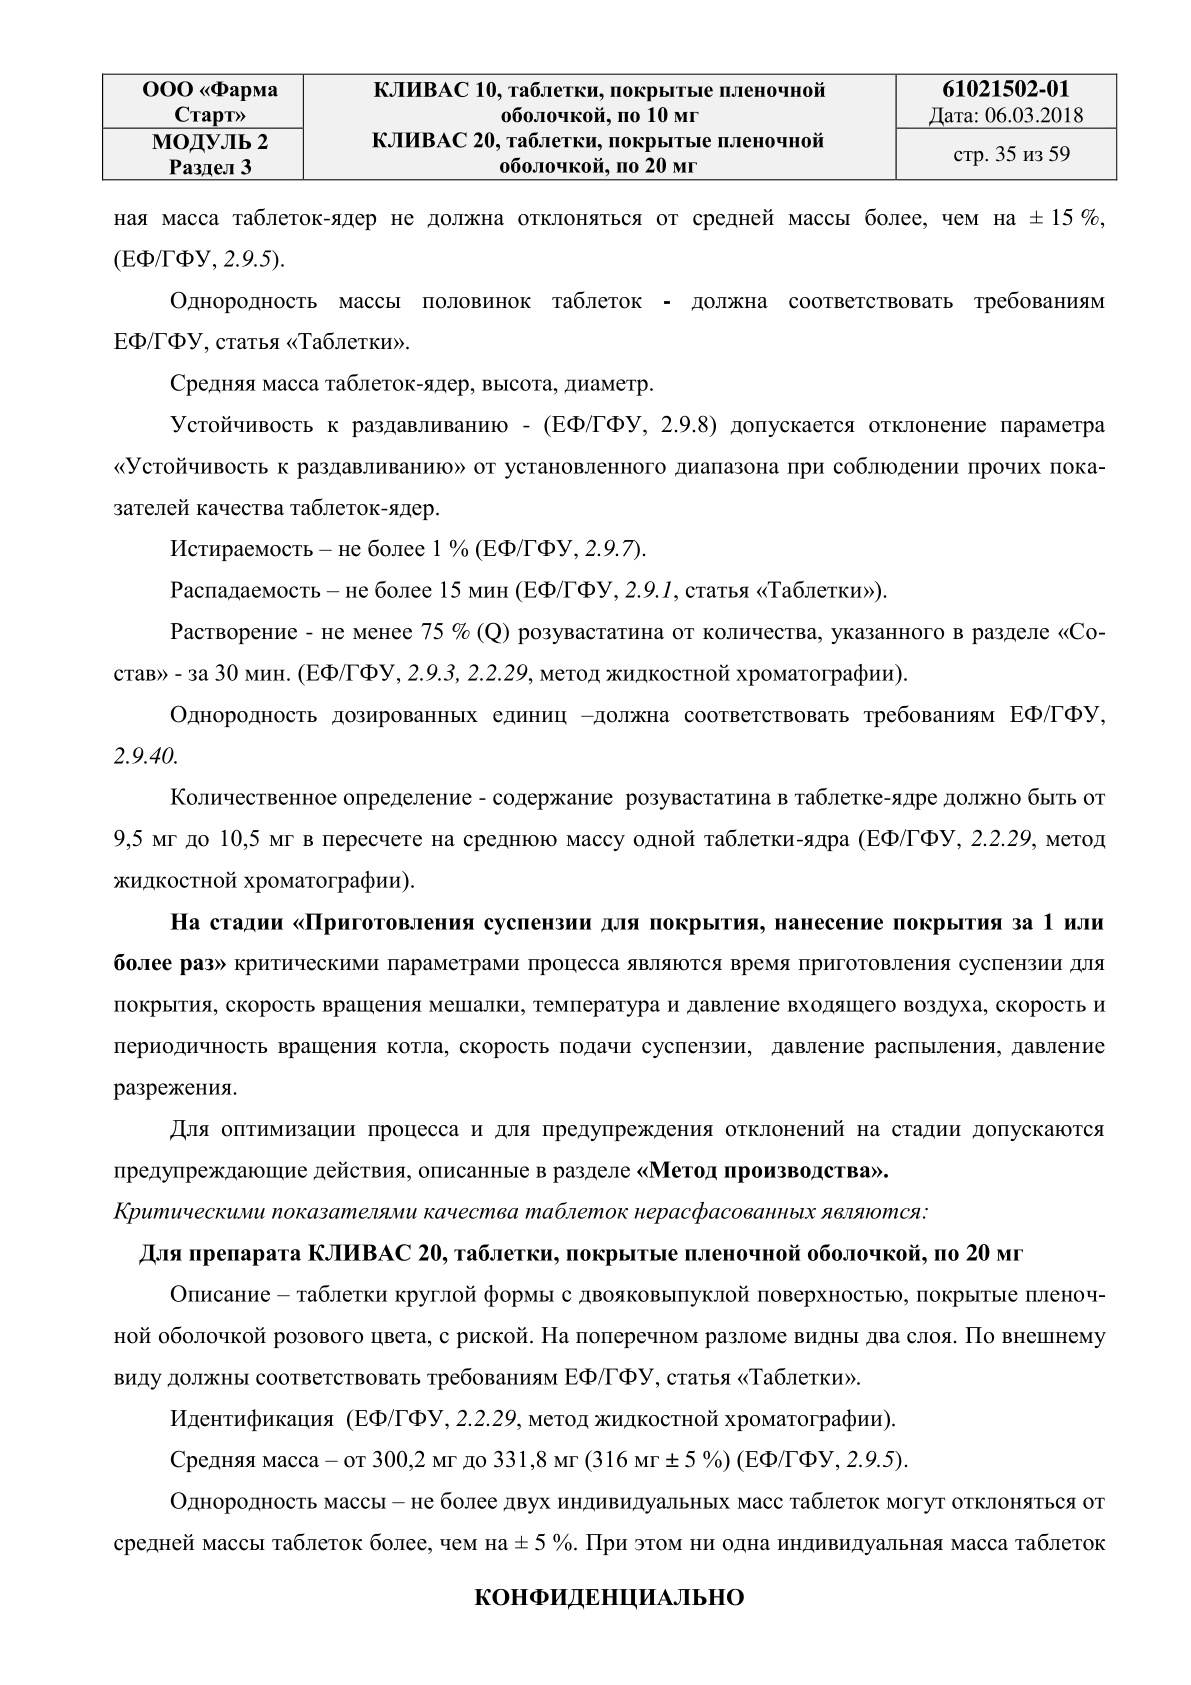merged_cells: (101, 72, 1119, 180)
